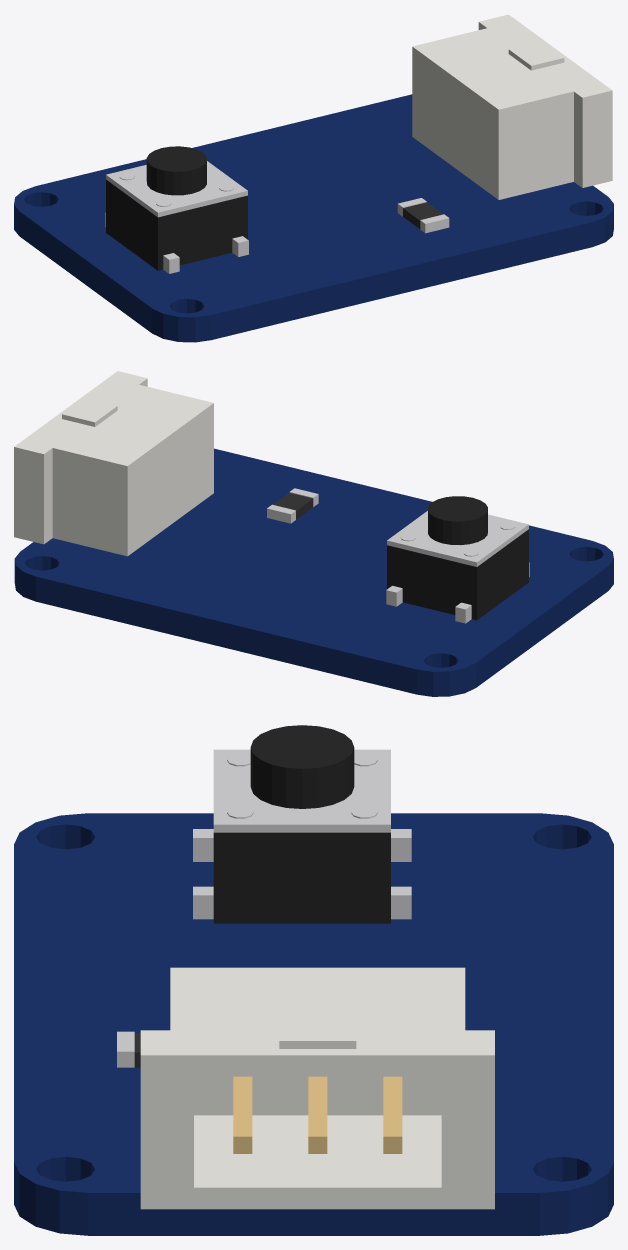
Rendered from button.glb.
3 renders of one model, top to bottom at view 1: azimuth 30°, elevation 25°; view 2: azimuth 150°, elevation 25°; view 3: azimuth 270°, elevation 25°, orthographic. The views are drawn at different scales.
Parts seen in each view (by area): view 1: button_pcb, button_xh, button_body, button_plate, button_cap, button_legs, button_r_1_ends, button; view 2: button_pcb, button_xh, button_body, button_plate, button_cap, button_legs, button_r_1_ends, button; view 3: button_pcb, button_xh, button_body, button_plate, button_cap, button, button_legs.
Part boxes in pixels (x1,y1,x2,y2): button_pcb: [14, 94, 613, 342]; button_xh: [412, 14, 612, 199]; button_body: [106, 179, 247, 270]; button_plate: [106, 161, 247, 217]; button_cap: [146, 146, 206, 195]; button_legs: [105, 213, 248, 273]; button_r_1_ends: [397, 198, 449, 233]; button: [403, 202, 442, 228]; button_pcb: [14, 448, 613, 696]; button_xh: [14, 371, 213, 556]; button_body: [387, 529, 528, 620]; button_plate: [387, 511, 528, 566]; button_cap: [428, 496, 487, 545]; button_legs: [386, 562, 529, 623]; button_r_1_ends: [267, 488, 318, 523]; button: [273, 492, 313, 519]; button_pcb: [14, 813, 613, 1235]; button_xh: [140, 967, 494, 1209]; button_body: [213, 832, 390, 923]; button_plate: [213, 749, 390, 832]; button_cap: [250, 725, 354, 808]; button: [134, 1033, 402, 1153]; button_legs: [193, 829, 411, 919].
Size of the model in its own units: 0.0317 by 0.00765 by 0.0203.
